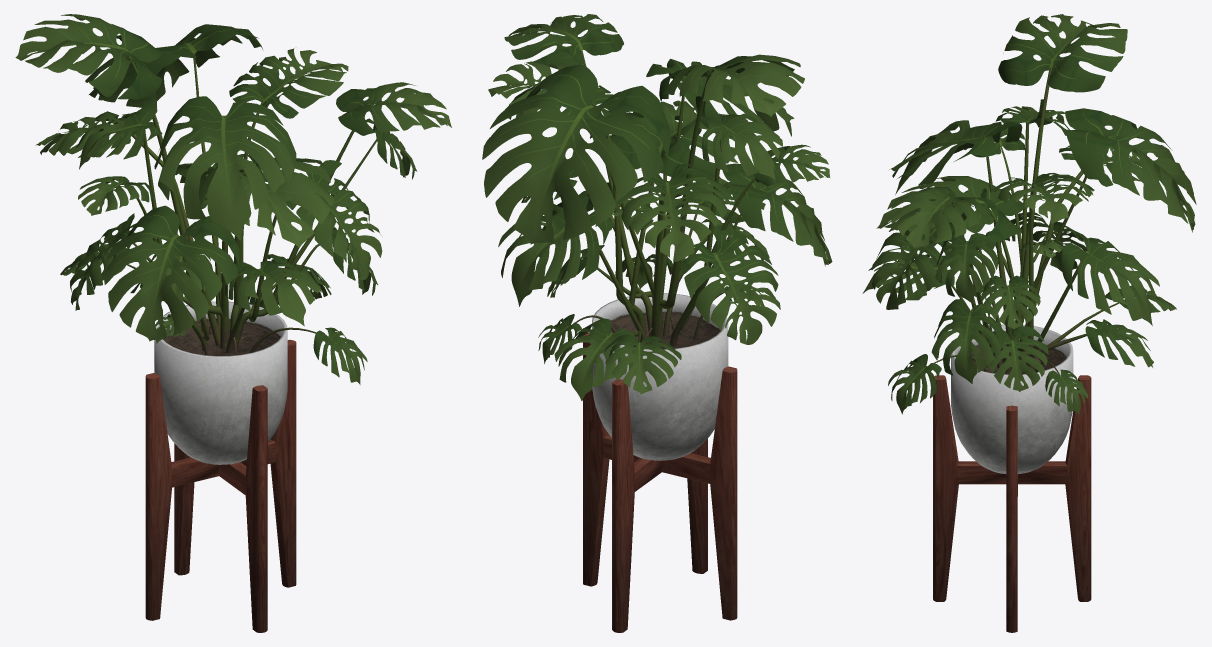
The picture shows the model from 3 angles, left to right: view 1: azimuth 30°, elevation 25°; view 2: azimuth 150°, elevation 25°; view 3: azimuth 270°, elevation 25°; orthographic projection. The views are drawn at different scales.
Visible parts, largest first — view 1: Leaves, Stand, Pot_LP, root_HP_1_Mat.2_0; view 2: Leaves, Stand, Pot_LP, root_HP_1_Mat.2_0; view 3: Leaves, Stand, Pot_LP, root_HP_1_Mat.2_0.
Boxes of the visible parts, x1,y1,x2,y2 form: Leaves: [15, 14, 451, 384]; Stand: [145, 339, 296, 632]; Pot_LP: [154, 301, 287, 464]; root_HP_1_Mat.2_0: [124, 53, 376, 355]; Leaves: [482, 14, 832, 400]; Stand: [583, 332, 737, 632]; Pot_LP: [592, 293, 728, 460]; root_HP_1_Mat.2_0: [559, 50, 755, 346]; Leaves: [862, 14, 1196, 414]; Stand: [933, 375, 1091, 632]; Pot_LP: [951, 324, 1073, 473]; root_HP_1_Mat.2_0: [933, 68, 1119, 375].
Bounding box in the file's own units: 0.7029 × 1.1 × 0.6395.
Materials: 3 (3 with a texture image).
